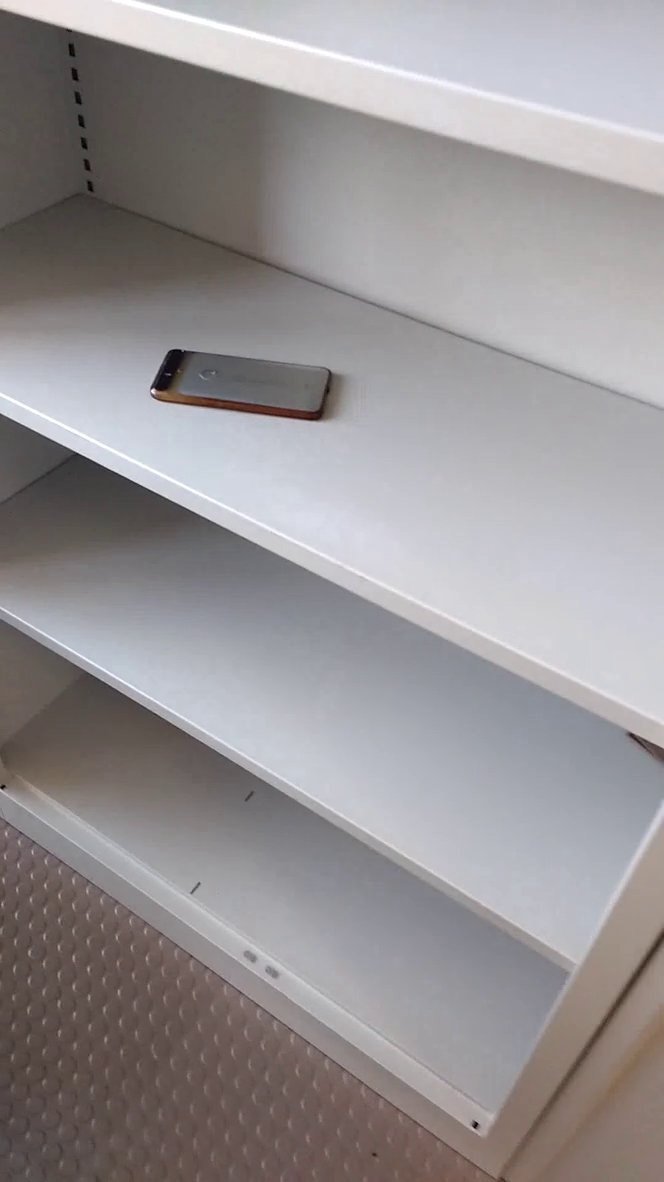phone: (143, 339, 348, 430)
